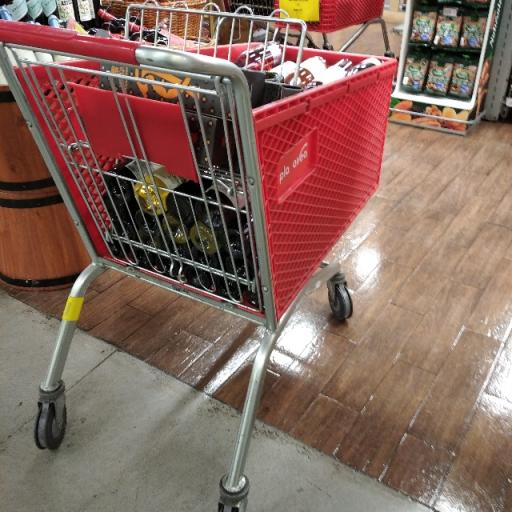shopping_cart: (0, 0, 397, 512), (275, 0, 397, 57)
